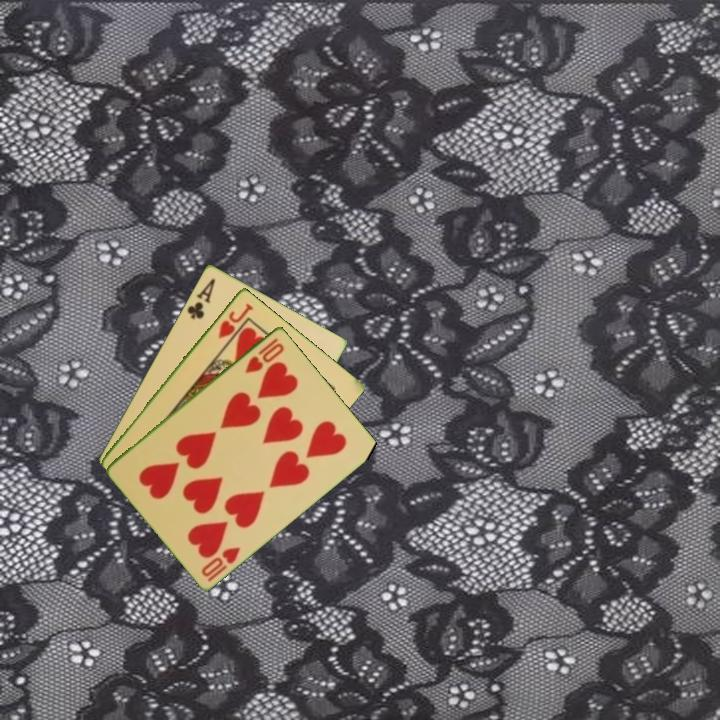10h: (241, 334, 287, 376), (198, 543, 244, 584)
Ac: (183, 274, 218, 322)
Jh: (214, 299, 256, 341)
